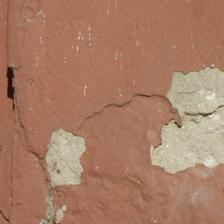Crack: (74, 0, 186, 111), (86, 0, 132, 121)
